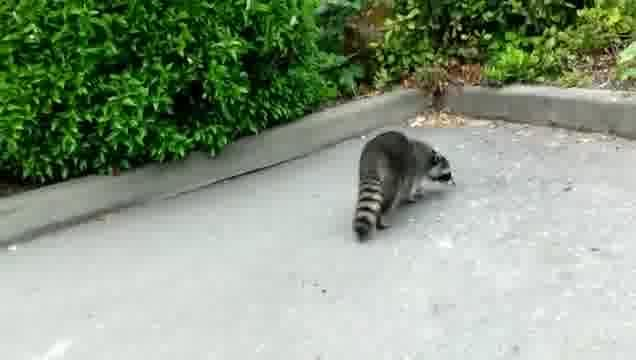raccoon: (350, 129, 457, 244)
